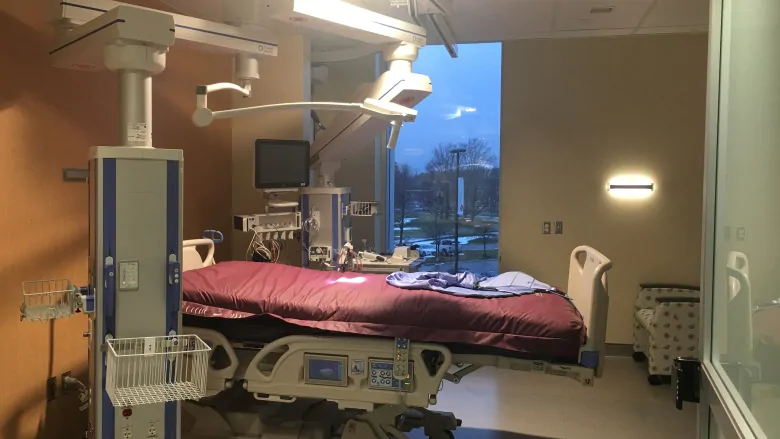bedrail: (242, 336, 452, 414)
bedside_monitor: (252, 135, 309, 187)
foot_board: (567, 245, 612, 377)
hospital_bed: (149, 239, 611, 439)
sofa: (631, 284, 701, 386)
